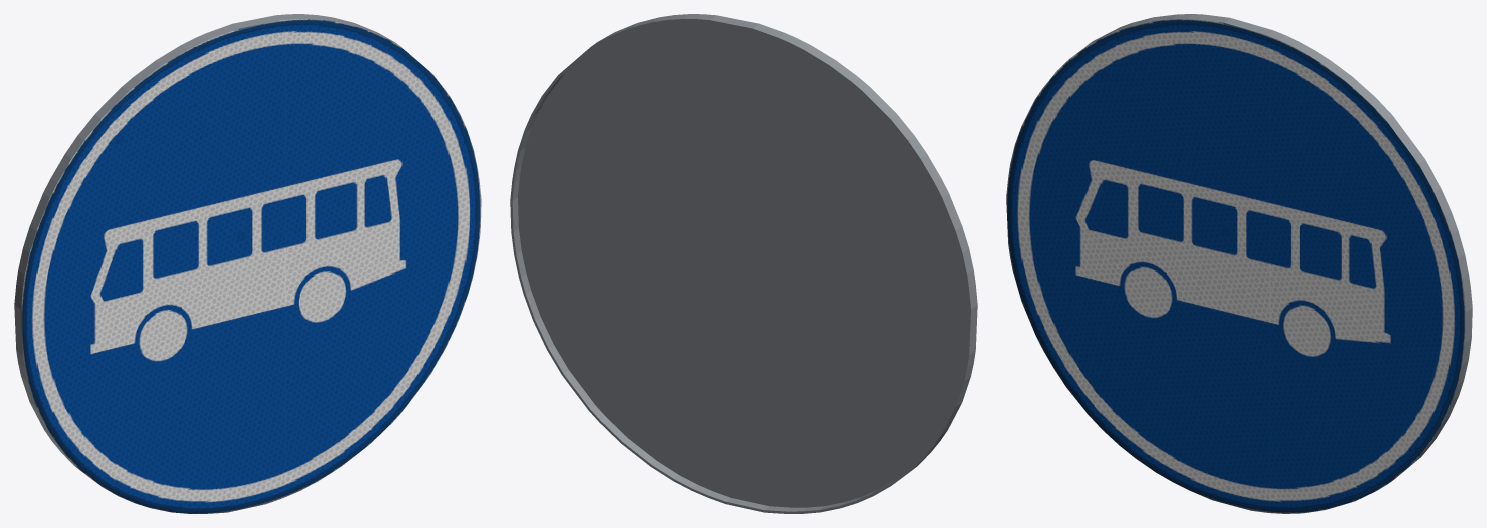
The picture shows the model from 3 angles, left to right: view 1: azimuth 30°, elevation 25°; view 2: azimuth 150°, elevation 25°; view 3: azimuth 330°, elevation 25°; orthographic projection.
Parts seen in each view (by area): view 1: cat_20a800e0d6bc78fe; view 2: cat_20a800e0d6bc78fe; view 3: cat_20a800e0d6bc78fe.
Boxes of the visible parts, x1,y1,x2,y2 form: cat_20a800e0d6bc78fe: (14,14,481,513); cat_20a800e0d6bc78fe: (510,14,977,513); cat_20a800e0d6bc78fe: (1006,14,1472,513).
Bounding box in the file's own units: 0.6 × 0.015 × 0.6.
Materials: 2 (1 with a texture image).
